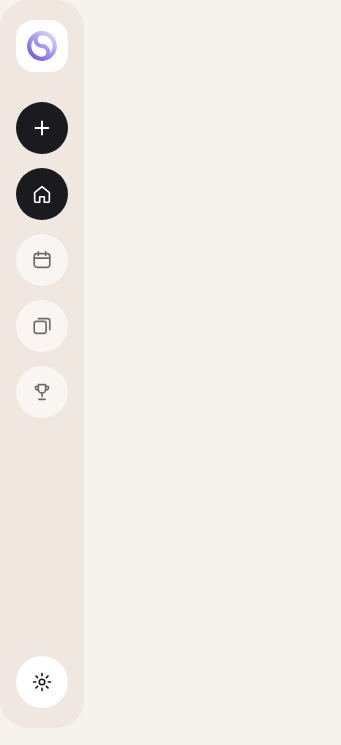
Test: AppRail › offers sign out when an account is given
Click the button named "Settings" at (42, 682), box top-left (16, 656), bottom-right (68, 708)
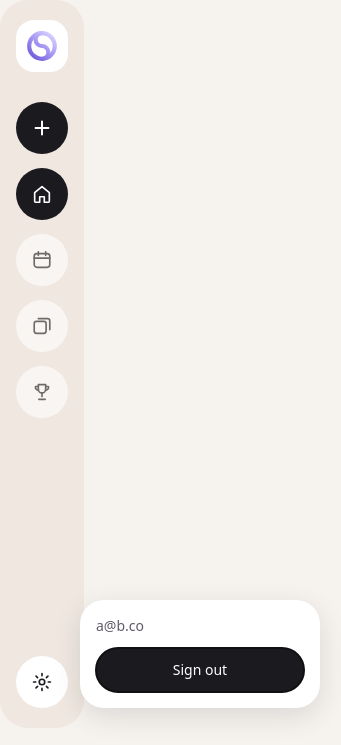
expect the button "Sign out" is shown: met, box top-left (96, 648), bottom-right (304, 692)
expect the text "a@b.co" is shown: met, box top-left (96, 616), bottom-right (144, 635)
